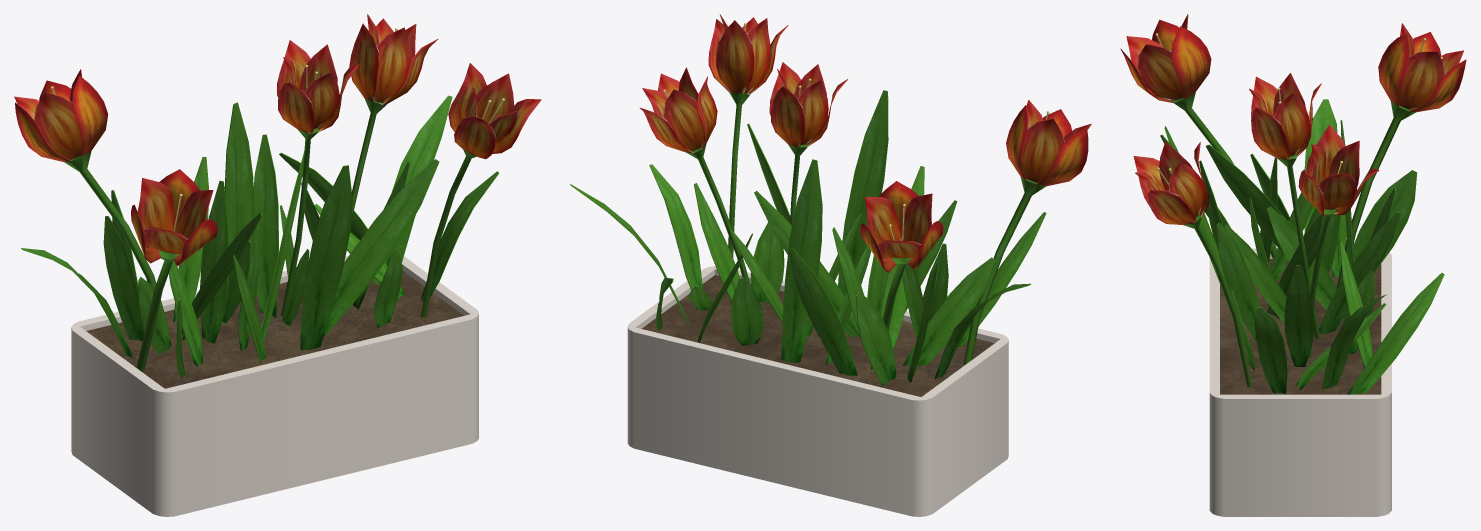
Rendered from PotFlowers02.FBX.
3 renders of one model, left to right at view 1: azimuth 30°, elevation 25°; view 2: azimuth 150°, elevation 25°; view 3: azimuth 270°, elevation 25°, orthographic. The views are drawn at different scales.
Parts seen in each view (by area): view 1: PotFlowers02; view 2: PotFlowers02; view 3: PotFlowers02.
Boxes of the visible parts, <box> form: PotFlowers02: <box>14,14,541,516</box>; PotFlowers02: <box>570,14,1091,516</box>; PotFlowers02: <box>1120,14,1466,516</box>.
Bounding box in the file's own units: 0.3839 × 0.3118 × 0.2631.
